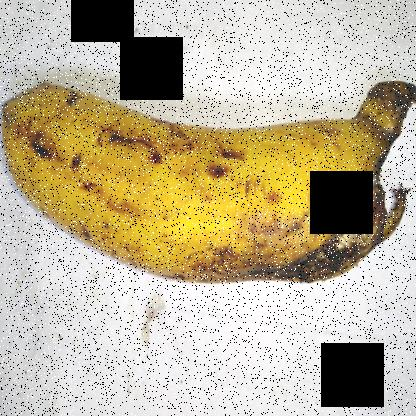ripe: (1, 38, 415, 310)
rotten: (278, 195, 416, 293)
